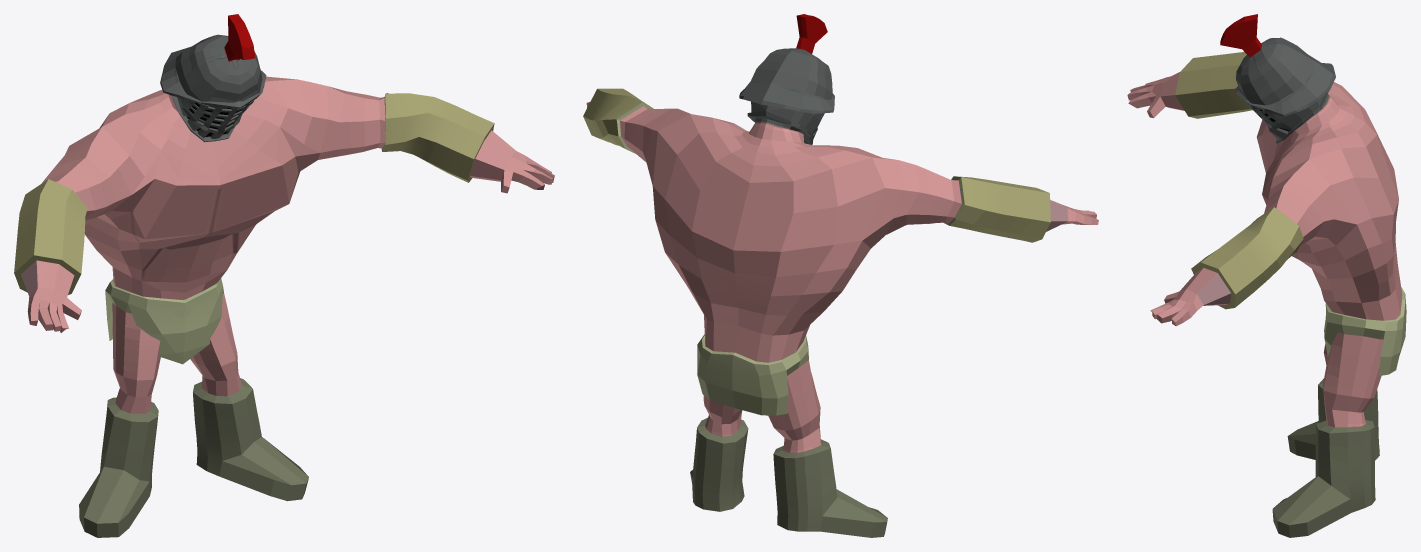
File: GladiatorCelebracion_000523.obj
The picture shows the model from 3 angles, left to right: view 1: azimuth 30°, elevation 25°; view 2: azimuth 150°, elevation 25°; view 3: azimuth 270°, elevation 25°; orthographic projection. The views are drawn at different scales.
Parts seen in each view (by area): view 1: Gadiador_Gladiador_H; view 2: Gadiador_Gladiador_H; view 3: Gadiador_Gladiador_H.
Boxes of the visible parts, x1,y1,x2,y2 form: Gadiador_Gladiador_H: [14, 14, 554, 537]; Gadiador_Gladiador_H: [583, 14, 1098, 537]; Gadiador_Gladiador_H: [1127, 14, 1406, 537].
Size of the model in its own units: 7.78 by 7.11 by 3.74.
1 material, 1 textured.
